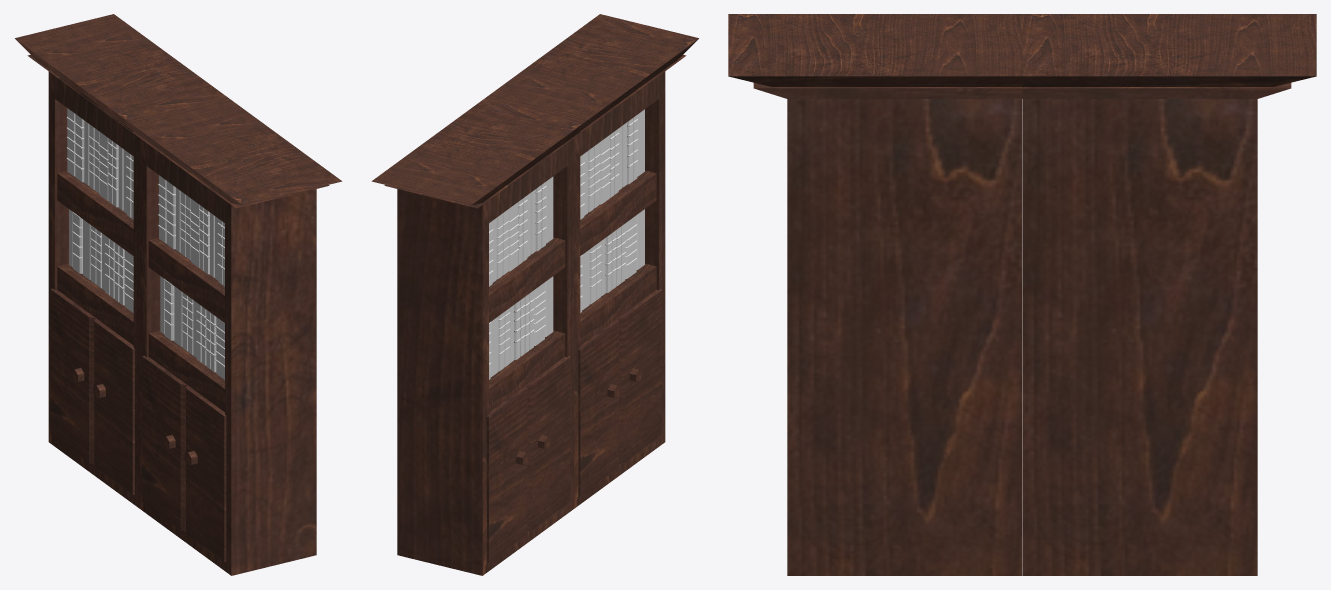
File: EstanteDeLivros3.fbx
3 renders of one model, left to right at view 1: azimuth 30°, elevation 25°; view 2: azimuth 150°, elevation 25°; view 3: azimuth 270°, elevation 25°, orthographic. The views are drawn at different scales.
Parts seen in each view (by area): view 1: Estante de livros3; view 2: Estante de livros3; view 3: Estante de livros3.
Boxes of the visible parts, left/top/right/bottom form: Estante de livros3: left=15, top=14, right=342, bottom=575; Estante de livros3: left=371, top=14, right=698, bottom=575; Estante de livros3: left=728, top=14, right=1316, bottom=575.
Bounding box in the file's own units: 1.12 × 4.47 × 4.2.
